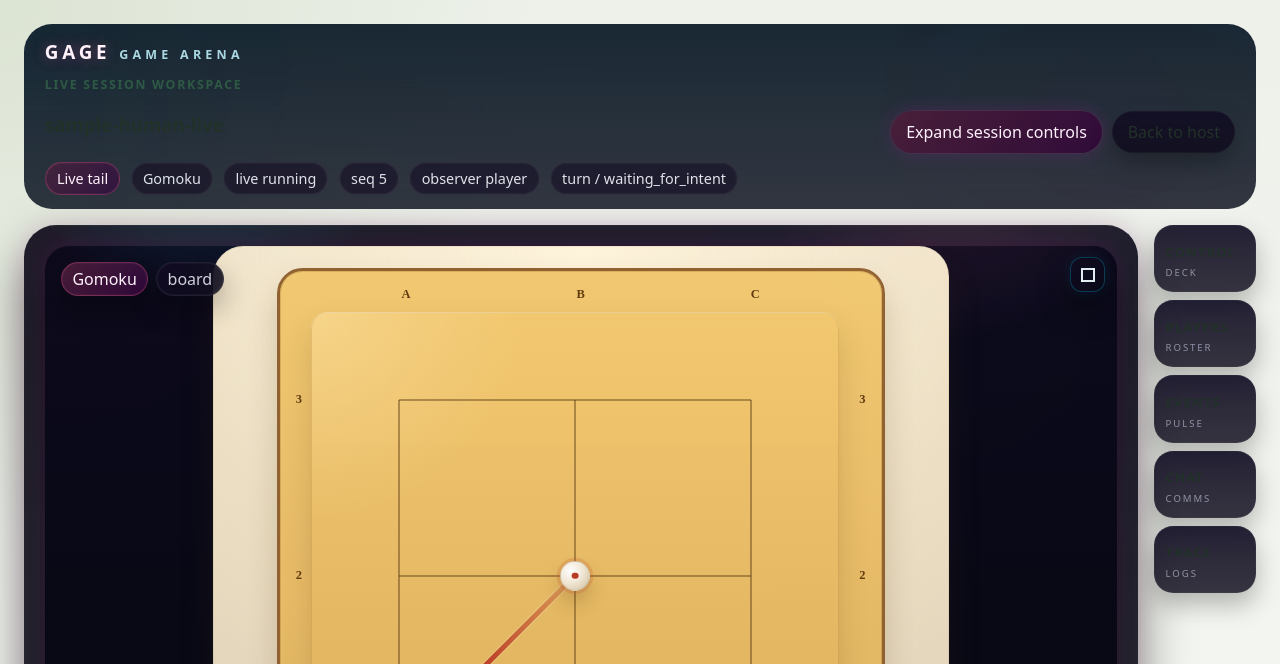
SessionPage › surfaces live human-input readiness cues inside the stage hud
Expected: the element with test id "session-brand" shows "GAGE", [45,39,110,65]
Expected: the element with test id "session-brand" shows "GAME ARENA", [119,46,244,63]
What coordinates should you click on to do the following:
click the button "Control Deck"
I would click on:
 (1205, 259)
Its box is [1154,225,1256,292].
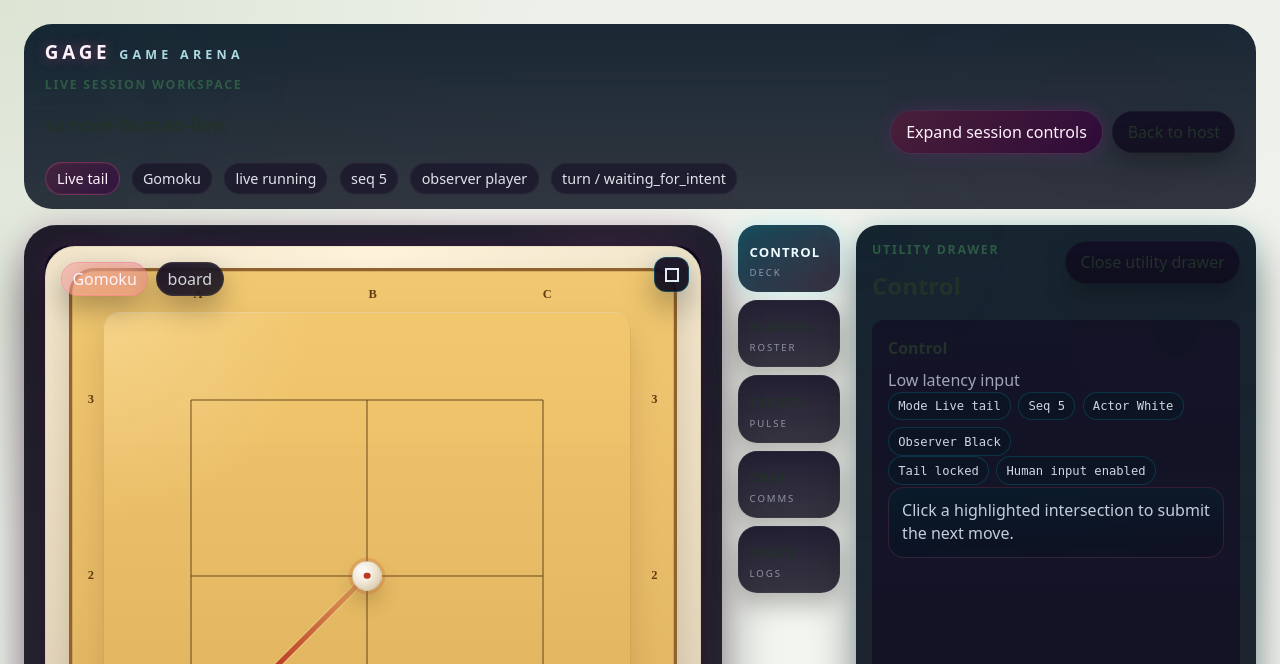
Now the text "Tail locked" is shown, box [888,456,989,485]
Now the text "Human input enabled" is shown, box [996,456,1156,485]
Now the text "Low latency input" is shown, box [888,368,1020,390]
